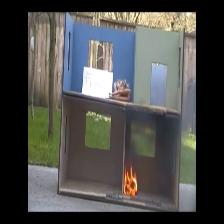fire: (123, 165, 140, 195)
